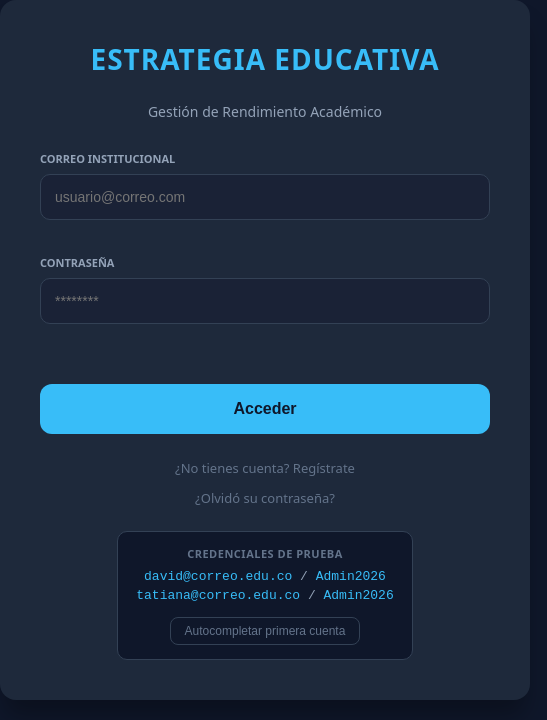
Test: Integración - Login › el boton Autocompletar rellena el formulario con las credenciales de prueba
The width and height of the screenshot is (547, 720).
Click the button "Autocompletar primera cuenta" at (265, 631), box [170,617,360,645]
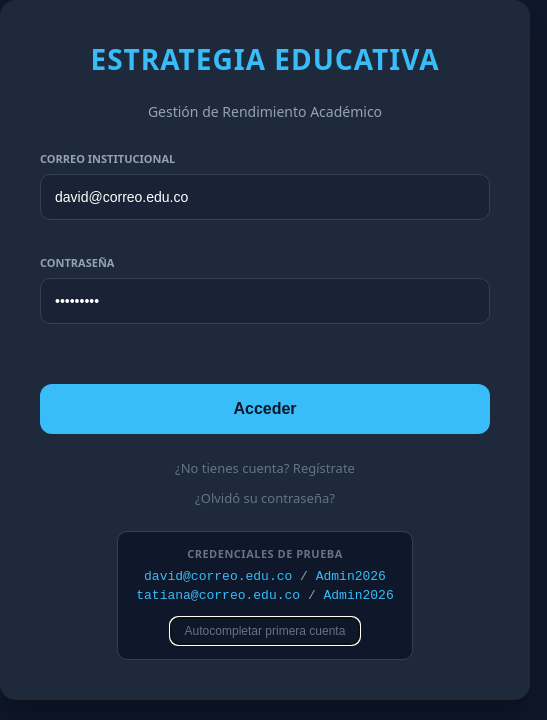
expect the field with placeholder "usuario@correo.com" holds "david@correo.edu.co": met, box [40,174,490,220]
expect the password field with placeholder "********" holds "Admin2026": met, box [40,278,490,324]
